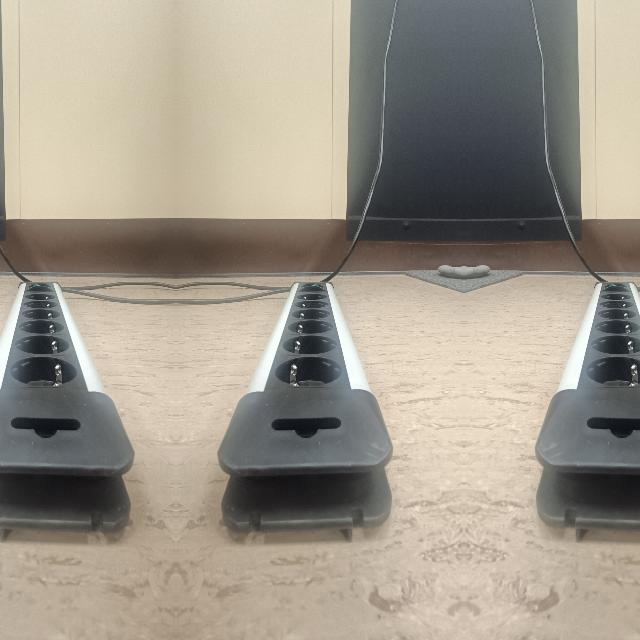obstacle: (226, 274, 390, 530), (0, 273, 124, 530), (537, 273, 640, 530)
